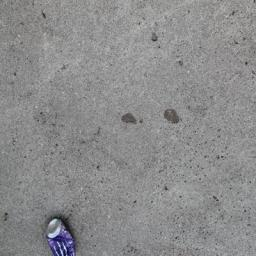FOD: (42, 214, 80, 256)
